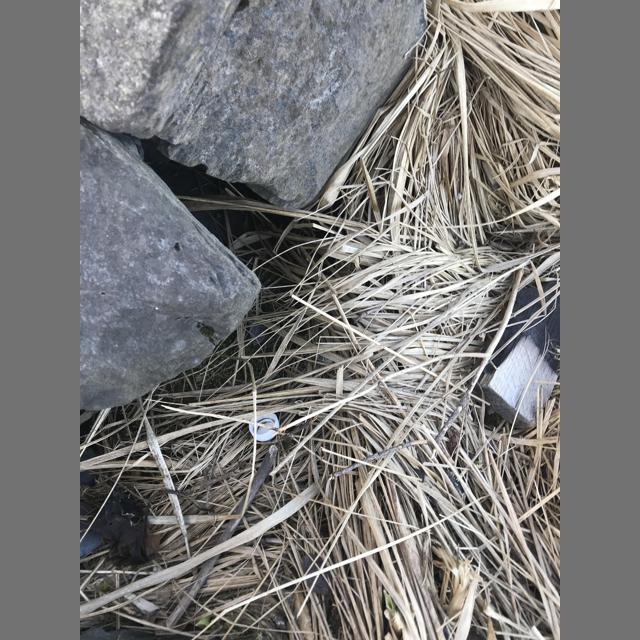litter: (249, 413, 280, 441)
